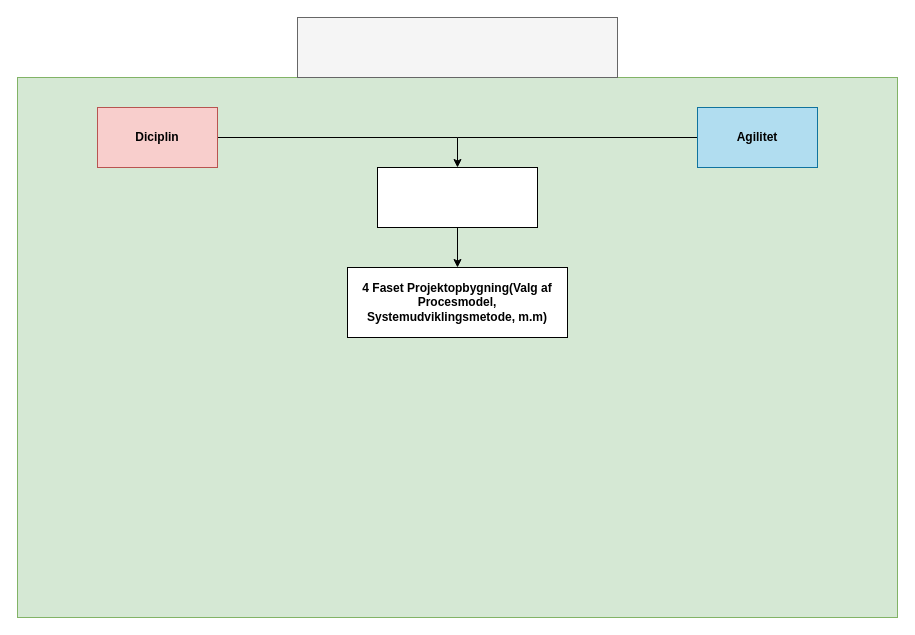
This 915x635 diagram has some shape labels left out. The box of each missing label's shape, as (x1, y1, x2, y2) in pixels:
Dans Projektopstarts Håndbog: (296, 16, 618, 78)
Ydre- og/eller Indrestyring af projektet: (376, 166, 538, 228)
